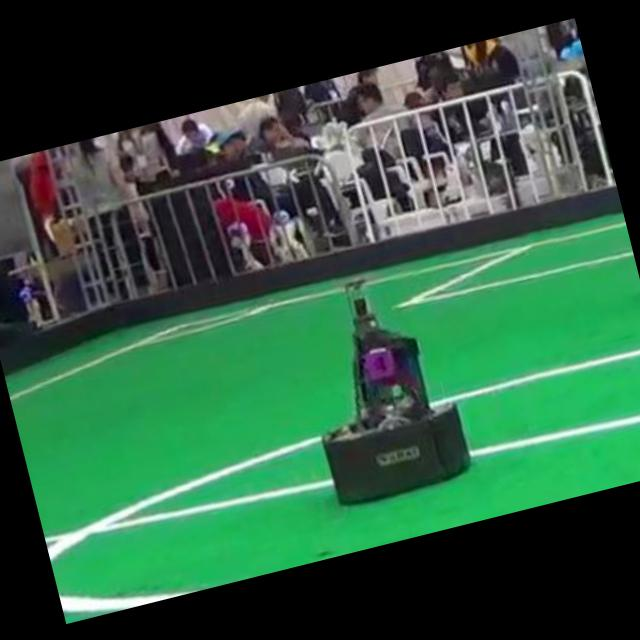robot: (323, 280, 469, 503)
